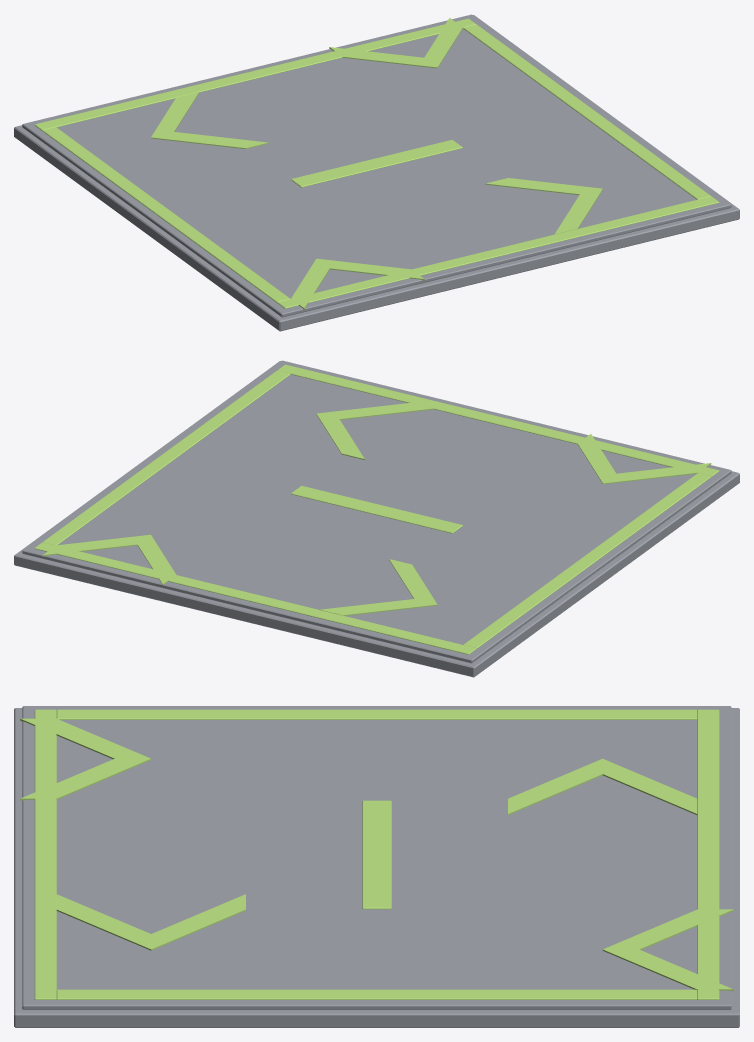
Rendered from laser-tag-arena-and-activity-centre-arena-floor-tile-89a9854d__34468.glb.
The picture shows the model from 3 angles, top to bottom: view 1: azimuth 30°, elevation 25°; view 2: azimuth 150°, elevation 25°; view 3: azimuth 270°, elevation 25°; orthographic projection. The views are drawn at different scales.
Visible parts, largest first — view 1: arena-floor-tile; view 2: arena-floor-tile; view 3: arena-floor-tile.
Boxes of the visible parts, x1,y1,x2,y2 form: arena-floor-tile: (14, 14, 739, 331); arena-floor-tile: (14, 360, 739, 677); arena-floor-tile: (14, 706, 739, 1027).
Bounding box in the file's own units: 1.99 × 0.0639 × 1.99.
